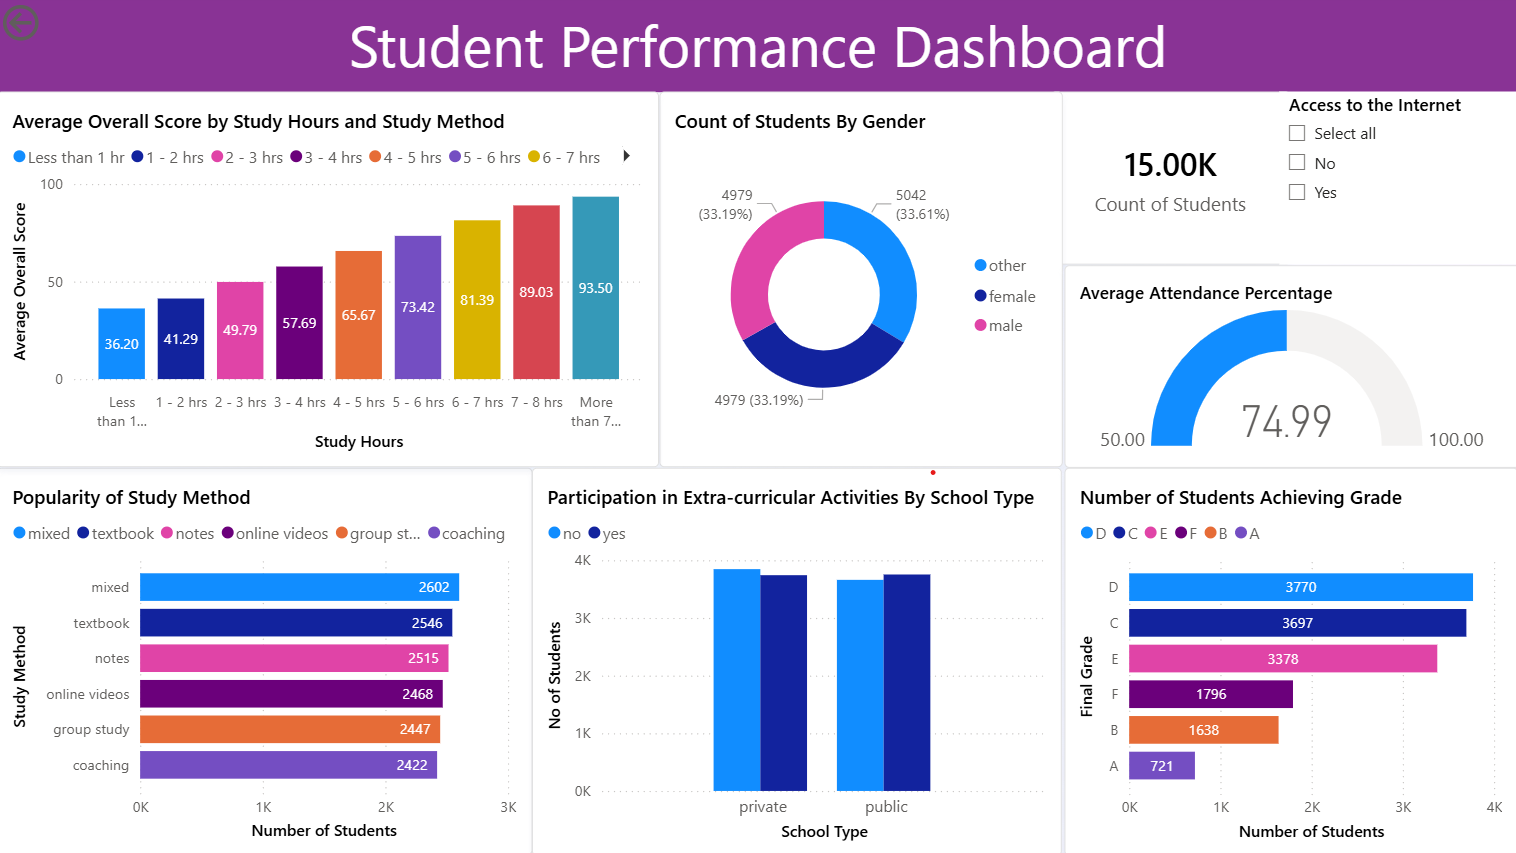

This screenshot's page, from the dashboard's own definition file:
{"tool":"powerbi","page":{"name":"Page 1","canvas":[1280,720],"ordinal":0},"visuals":[{"type":"textbox","box":[0,0,1280.3,78.2],"z":0},{"type":"card","fields":{"Values":["Count(Student_Performance (1).student_id)"]},"box":[886.5,78.2,201.7,145.5],"z":1000},{"type":"barChart","title":"Popularity of Study Method","fields":{"Y":["Count(Student_Performance (1).student_id)"],"Category":["Student_Performance (1).study_method"],"Series":["Student_Performance (1).study_method"]},"box":[0,394.3,450,325.9],"z":2000},{"type":"donutChart","title":"Count of Students By Gender","fields":{"Category":["Student_Performance (1).gender"],"Y":["Count(Student_Performance (1).student_id)"]},"box":[557.1,78.2,338.9,315.6],"z":3000},{"type":"columnChart","title":"Average Overall Score by Study Hours and Study Method","fields":{"Category":["Student_Performance (1).study_hours_categories","Student_Performance (1).study_method"],"Y":["Avg(Student_Performance (1).overall_score)"],"Series":["Student_Performance (1).study_hours_categories"]},"box":[0,78.2,557.1,315.6],"z":4000},{"type":"actionButton","box":[0,0,100,40],"z":5000},{"type":"gauge","title":"Average Attendance Percentage","fields":{"Y":["Avg(Student_Performance (1).attendance_percentage)"],"MinValue":["Min(Student_Performance (1).attendance_percentage)"],"MaxValue":["Max(Student_Performance (1).attendance_percentage)1"]},"box":[897.4,223.7,382.8,170.2],"z":6000},{"type":"slicer","fields":{"Values":["Student_Performance (1).Internet Access (Display)"]},"box":[1078.6,78.2,201.7,145.5],"z":7000},{"type":"clusteredColumnChart","title":"Participation in Extra-curricular Activities By School Type","fields":{"Category":["Student_Performance (1).school_type"],"Series":["Student_Performance (1).extra_activities"],"Y":["Count(Student_Performance (1).student_id)"]},"box":[450.1,393.8,446,326.6],"z":8000},{"type":"barChart","title":"Number of Students Achieving Grade","fields":{"Category":["Student_Performance (1).final_grade"],"Y":["Count(Student_Performance (1).student_id)"],"Series":["Student_Performance (1).final_grade"]},"box":[897.4,393.8,381.5,326.6],"z":10000}]}

Visuals, with their boxes in screenshot pixels (x1, y1, x2, y2), scaled from the page's 1280x720 canvas onto the 1516x853 screenshot:
textbox: (x1=0, y1=0, x2=1515, y2=93)
card - Count(Student_Performance (1).student_id): (x1=1050, y1=93, x2=1289, y2=265)
"Popularity of Study Method" barChart: (x1=0, y1=467, x2=533, y2=852)
"Count of Students By Gender" donutChart: (x1=660, y1=93, x2=1061, y2=467)
"Average Overall Score by Study Hours and Study Method" columnChart: (x1=0, y1=93, x2=660, y2=467)
actionButton: (x1=0, y1=0, x2=118, y2=47)
"Average Attendance Percentage" gauge: (x1=1063, y1=265, x2=1515, y2=467)
slicer - Student_Performance (1).Internet Access (Display): (x1=1277, y1=93, x2=1515, y2=265)
"Participation in Extra-curricular Activities By School Type" clusteredColumnChart: (x1=533, y1=467, x2=1061, y2=852)
"Number of Students Achieving Grade" barChart: (x1=1063, y1=467, x2=1515, y2=852)
